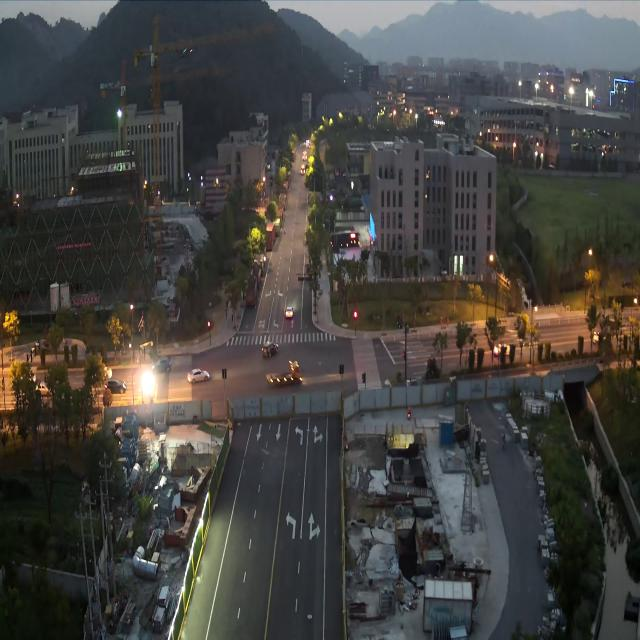drone: (178, 47, 192, 58)
